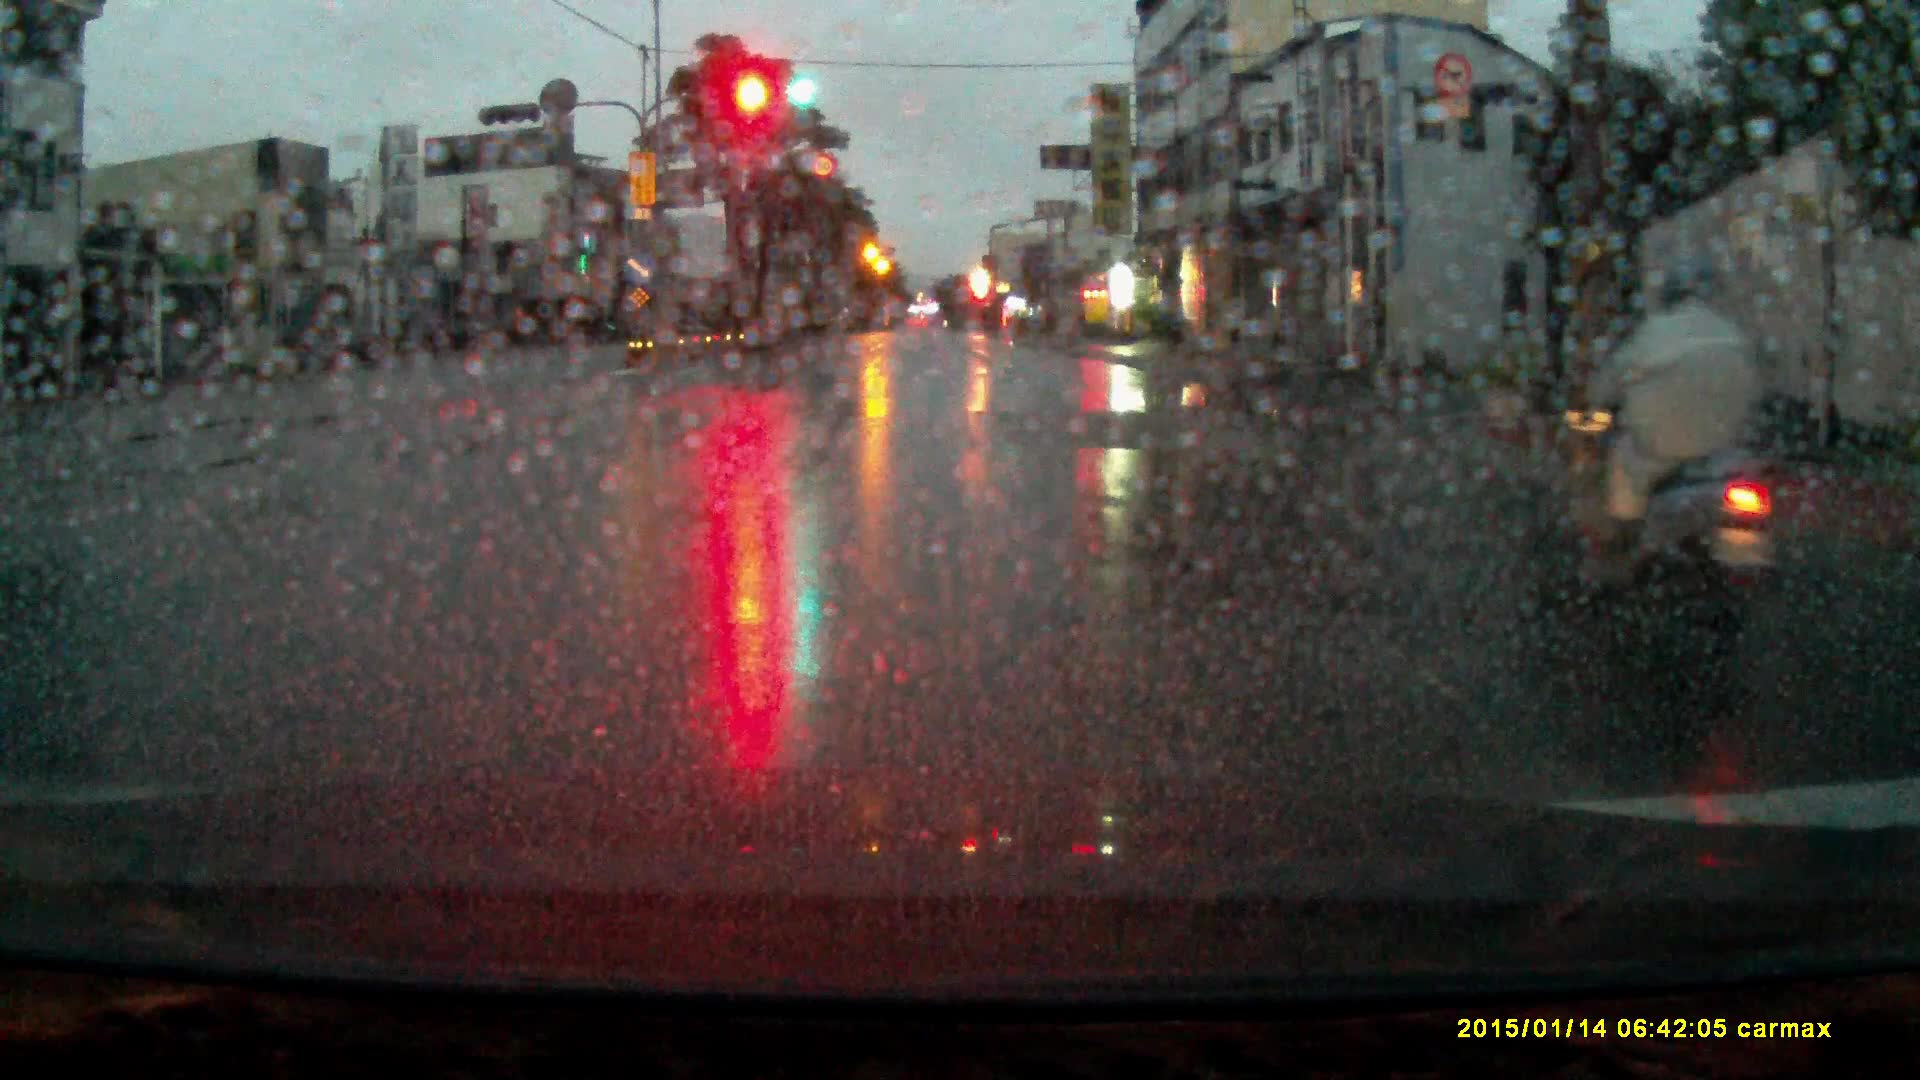rider: (1553, 247, 1786, 678)
